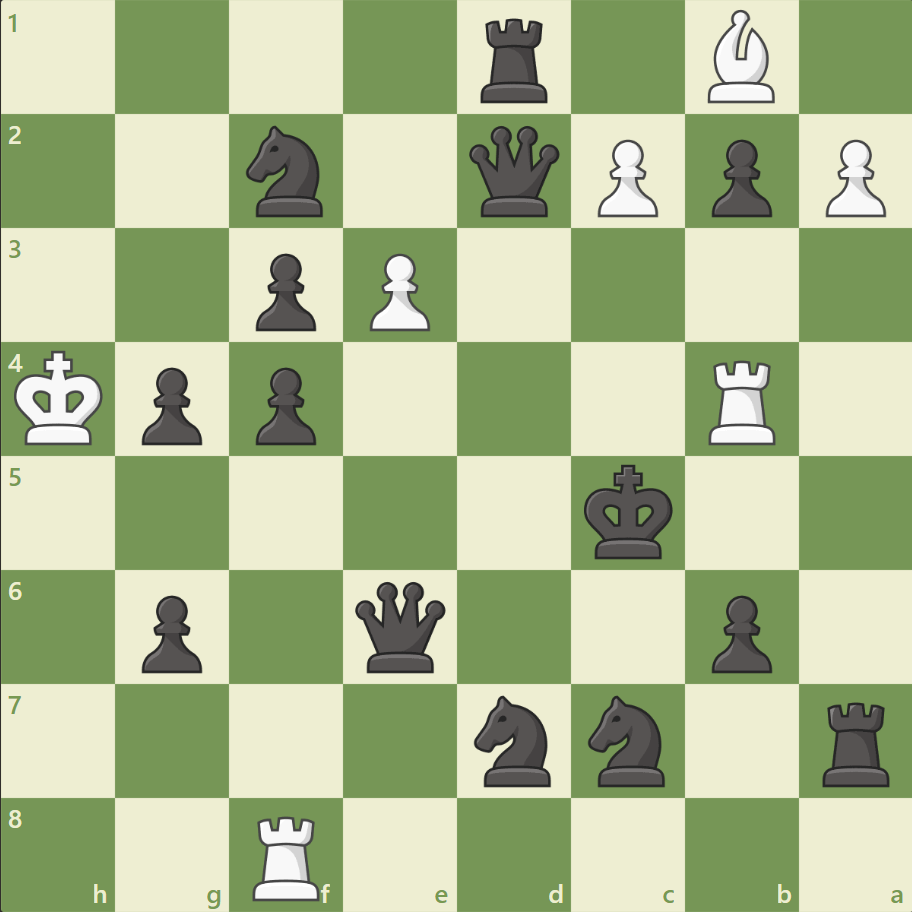B: (698, 6, 782, 109)
K: (11, 344, 111, 452)
P: (361, 246, 435, 337), (815, 132, 889, 223), (588, 132, 662, 223)
R: (246, 806, 329, 904), (700, 352, 783, 449)
k: (579, 458, 679, 566)
n: (579, 688, 676, 791), (465, 688, 562, 791), (238, 121, 335, 223)
p: (701, 586, 776, 677), (133, 586, 208, 677), (247, 359, 322, 450), (133, 359, 208, 450), (247, 246, 322, 337), (701, 132, 776, 223)
q: (351, 576, 450, 676), (464, 122, 563, 222)
r: (814, 693, 897, 790), (473, 12, 556, 109)
